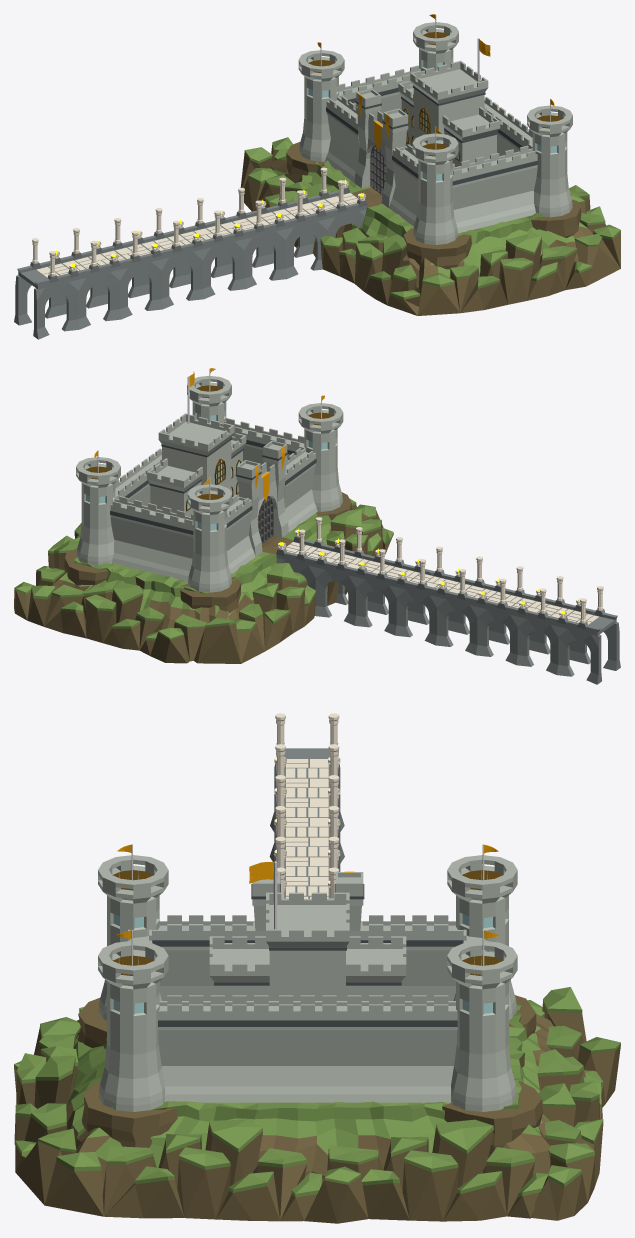
Rendered from kale2.fbx.
3 renders of one model, top to bottom at view 1: azimuth 30°, elevation 25°; view 2: azimuth 150°, elevation 25°; view 3: azimuth 270°, elevation 25°, orthographic. The views are drawn at different scales.
Visible parts, largest first — view 1: Icosphere.002, Cube.007, Icosphere.006, Plane.002, Cube.002, Cube.003, Circle.013, Cube.004, Circle.007, Circle, Plane.007, Plane.004 (+17 smaller); view 2: Icosphere.003, Cube.007, Icosphere.006, Plane.002, Cube.002, Cube.003, Circle, Cube.004, Circle.004, Circle.013, Plane.007, Plane.016 (+16 smaller); view 3: Icosphere.001, Plane.002, Cube.006, Icosphere.003, Circle.014, Circle.004, Circle.007, Icosphere.002, Cube.004, Plane.004, Cube.005, Circle.024 (+12 smaller).
Part boxes in pixels (x1,y1,x2,y2): Icosphere.002: (418, 233, 620, 315); Cube.007: (14, 249, 204, 339); Icosphere.006: (244, 168, 420, 315); Plane.002: (269, 156, 593, 296); Cube.002: (184, 209, 366, 298); Cube.003: (338, 69, 537, 209); Circle.013: (412, 133, 458, 244); Cube.004: (410, 60, 488, 140); Circle.007: (527, 105, 572, 217); Circle: (298, 50, 344, 161); Plane.007: (17, 227, 202, 289); Plane.004: (286, 142, 581, 269); Icosphere.003: (14, 582, 240, 663); Cube.007: (435, 597, 620, 684); Icosphere.006: (232, 509, 393, 663); Plane.002: (52, 499, 370, 629); Cube.002: (276, 558, 454, 645); Cube.003: (110, 421, 304, 558); Circle: (187, 484, 232, 592); Cube.004: (158, 413, 234, 491); Circle.004: (76, 457, 120, 565); Circle.013: (298, 403, 343, 511); Plane.007: (437, 575, 617, 635); Plane.016: (276, 536, 454, 596); Icosphere.001: (44, 1119, 548, 1223); Plane.002: (66, 1004, 553, 1185); Cube.006: (158, 1001, 457, 1065); Icosphere.003: (531, 987, 620, 1220); Circle.014: (161, 1066, 453, 1102); Circle.004: (447, 940, 517, 1111); Circle.007: (98, 940, 168, 1111); Icosphere.002: (14, 1017, 80, 1205); Cube.004: (266, 892, 349, 1000); Plane.004: (78, 995, 542, 1157); Cube.005: (152, 921, 463, 985); Circle.024: (209, 936, 406, 1000).
Size of the model in its own units: 5793 by 1987 by 3711.
